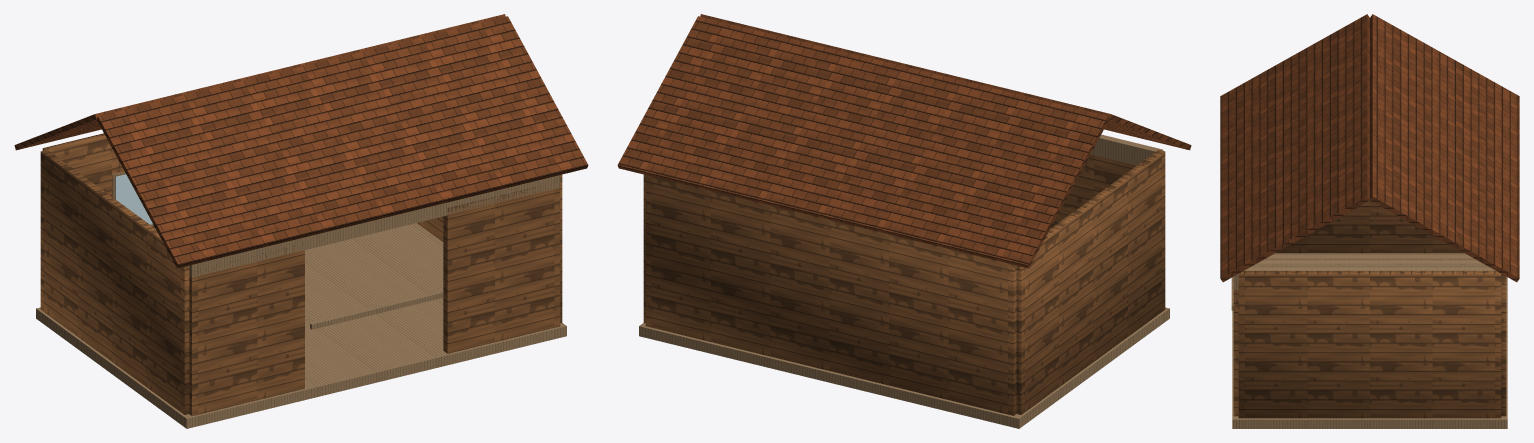
File: Boathouse.fbx
3 views of the same model, side by side, from view 1: azimuth 30°, elevation 25°; view 2: azimuth 150°, elevation 25°; view 3: azimuth 270°, elevation 25° (orthographic). The views are drawn at different scales.
Parts seen in each view (by area): view 1: LOD0; view 2: LOD0; view 3: LOD0.
Part boxes in pixels (x1=…): LOD0: x1=14, y1=14, x2=588, y2=428; LOD0: x1=617, y1=14, x2=1191, y2=428; LOD0: x1=1220, y1=14, x2=1519, y2=428.
Size of what is drawn, in the model's own units: 690 by 422 by 478.
